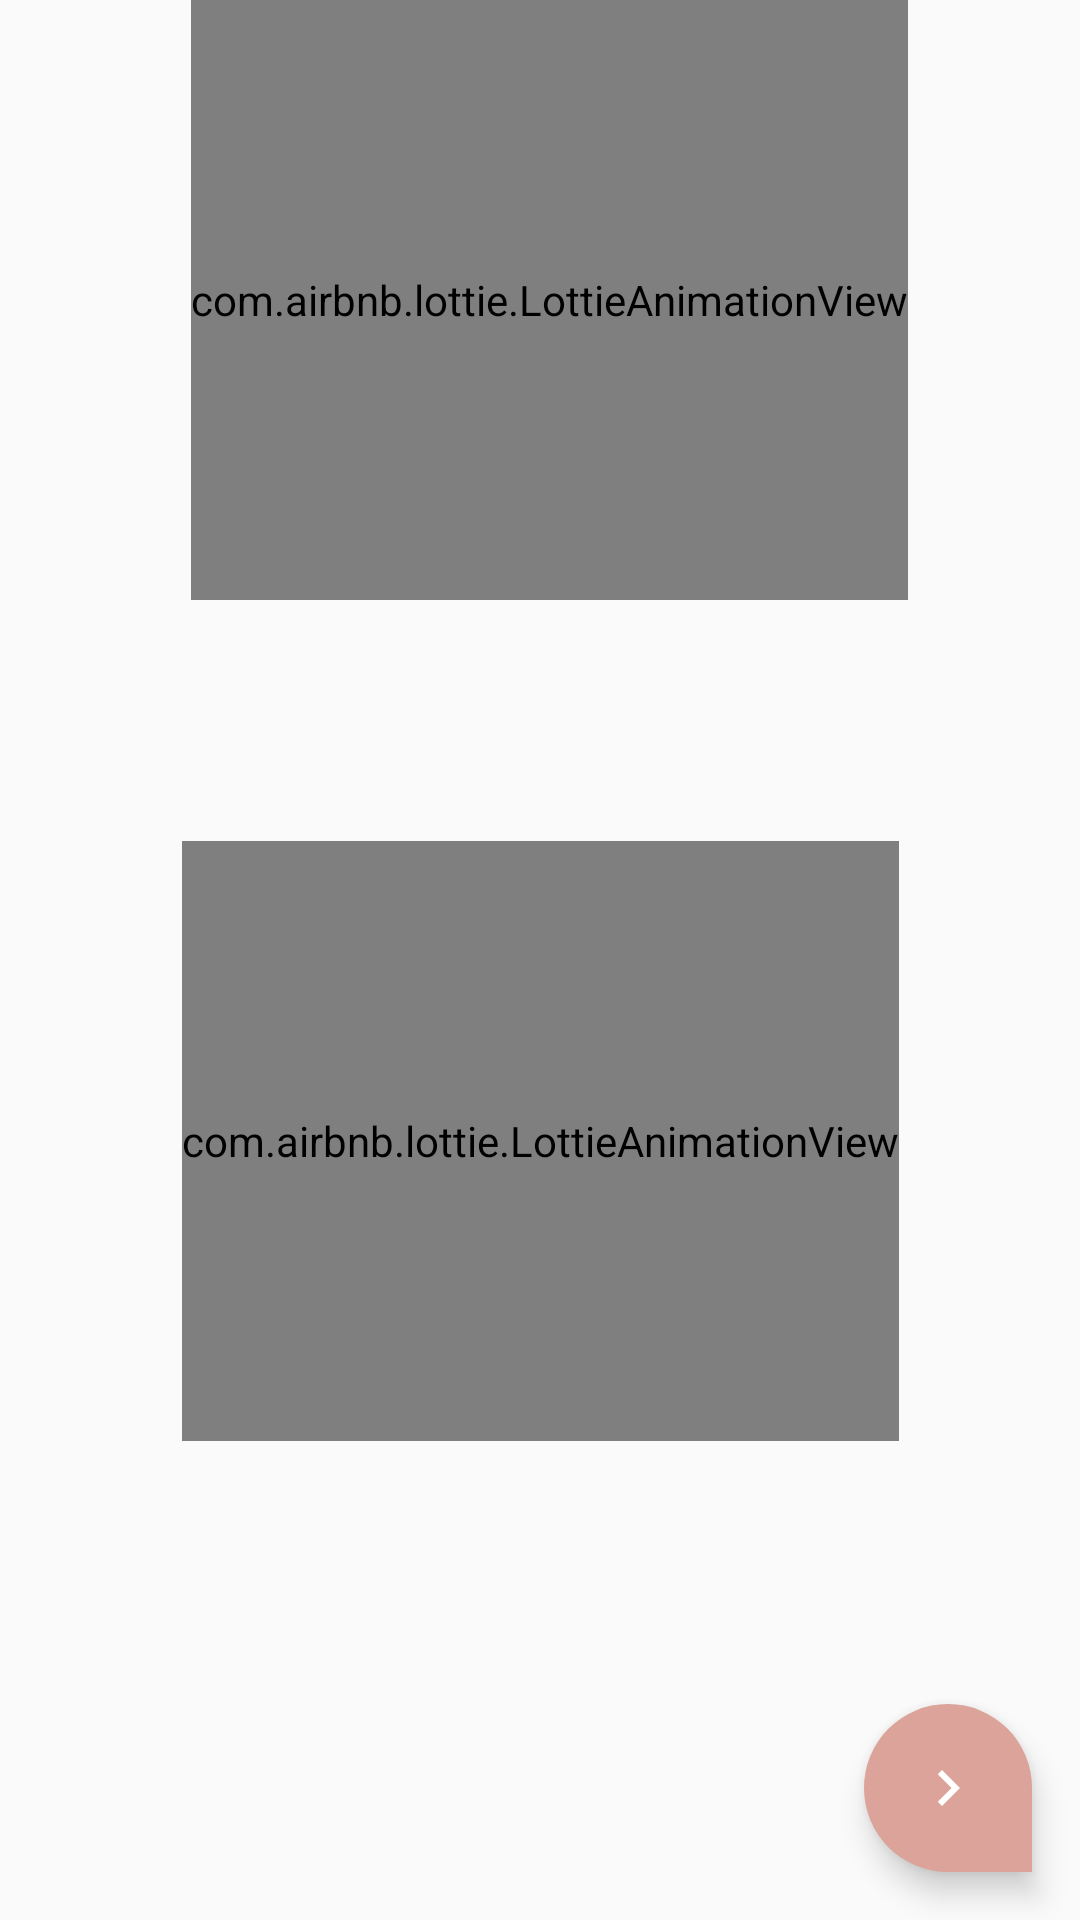

Point at icon controls on the screen. Image size 1080*1920, points as (x,y).
next: (948,1788)
